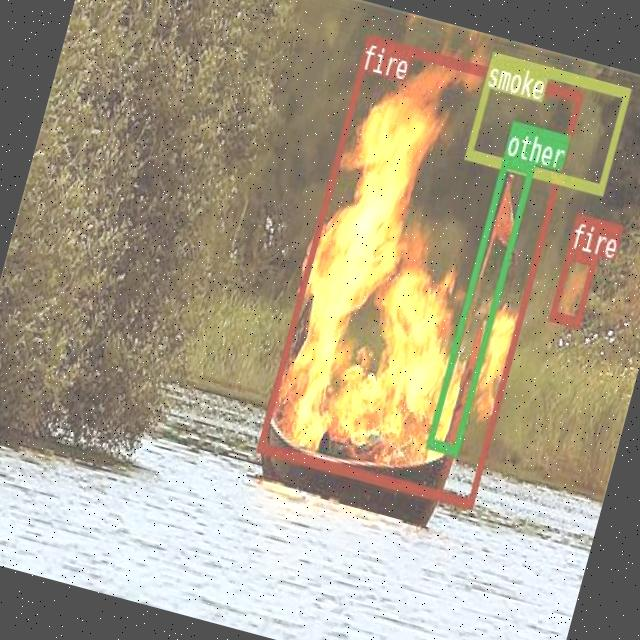fire: (255, 32, 583, 508), (548, 247, 597, 324)
smoke: (464, 51, 629, 192)
